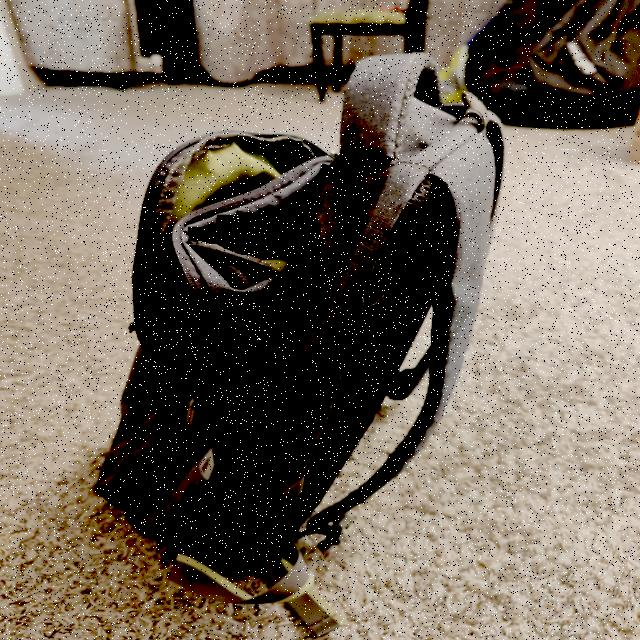bag: (96, 48, 509, 550)
